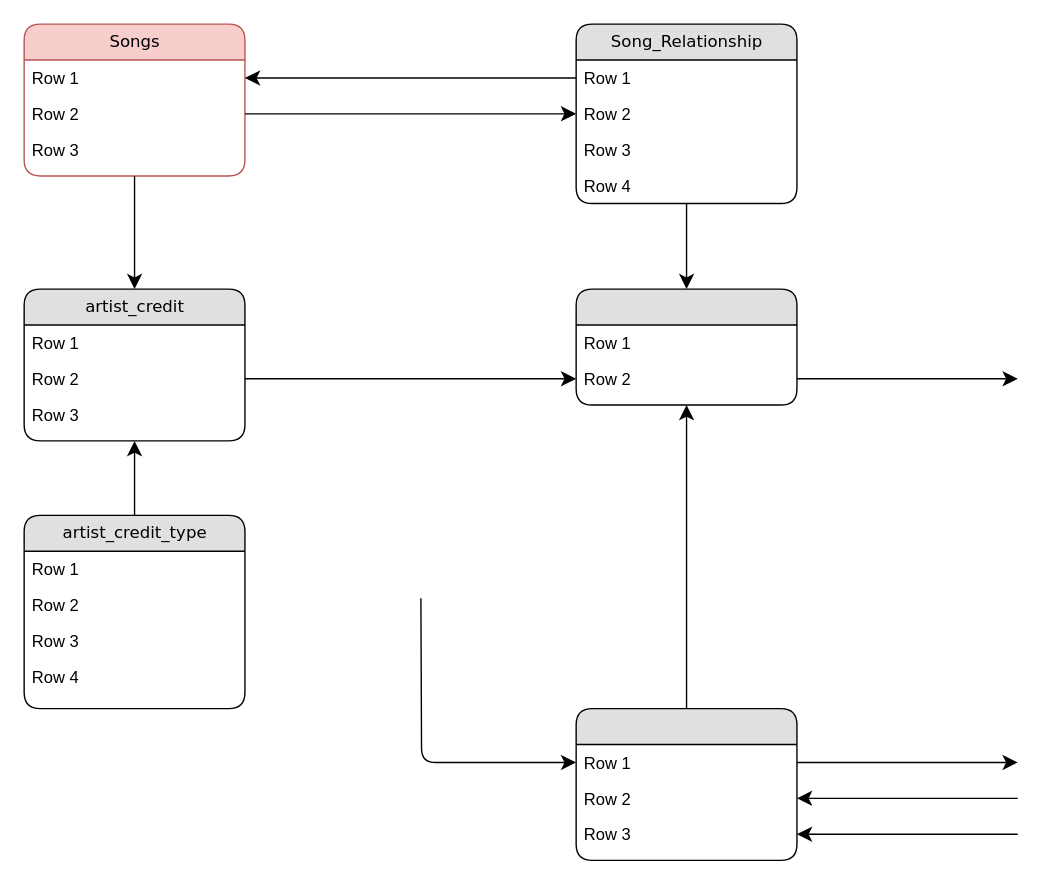
Image size: 1056x885. Some labels were removed from this diagram. Each missing label, with the box of its shape:
Function: (575, 707, 797, 860)
Song_Relationship_Type: (575, 288, 797, 405)
